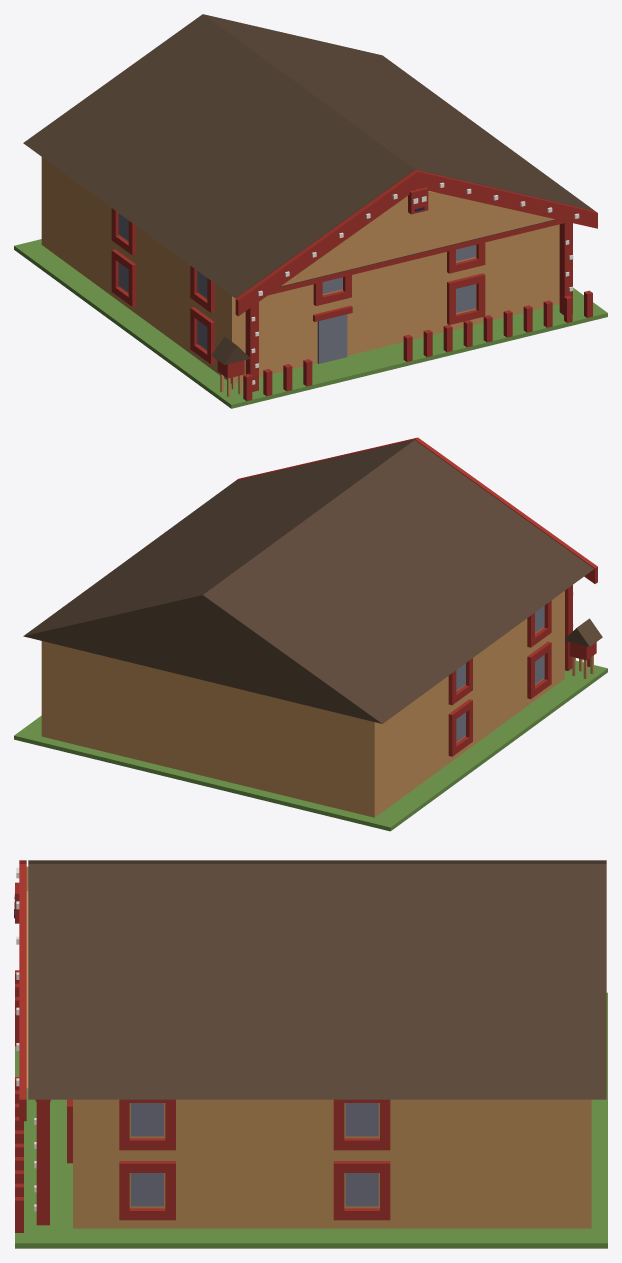
Rendered from house-2x2-2f-whare-a.glb.
The picture shows the model from 3 angles, top to bottom: view 1: azimuth 30°, elevation 25°; view 2: azimuth 150°, elevation 25°; view 3: azimuth 270°, elevation 25°; orthographic projection. The views are drawn at different scales.
Parts seen in each view (by area): view 1: house-2x2-2f-whare-a; view 2: house-2x2-2f-whare-a; view 3: house-2x2-2f-whare-a.
Part boxes in pixels (x1,y1,x2,y2): house-2x2-2f-whare-a: (14,14,607,408); house-2x2-2f-whare-a: (14,437,607,831); house-2x2-2f-whare-a: (14,860,607,1248).
Size of the model in its own units: 2 by 0.96 by 1.99.
Materials: 1 (1 with a texture image).
